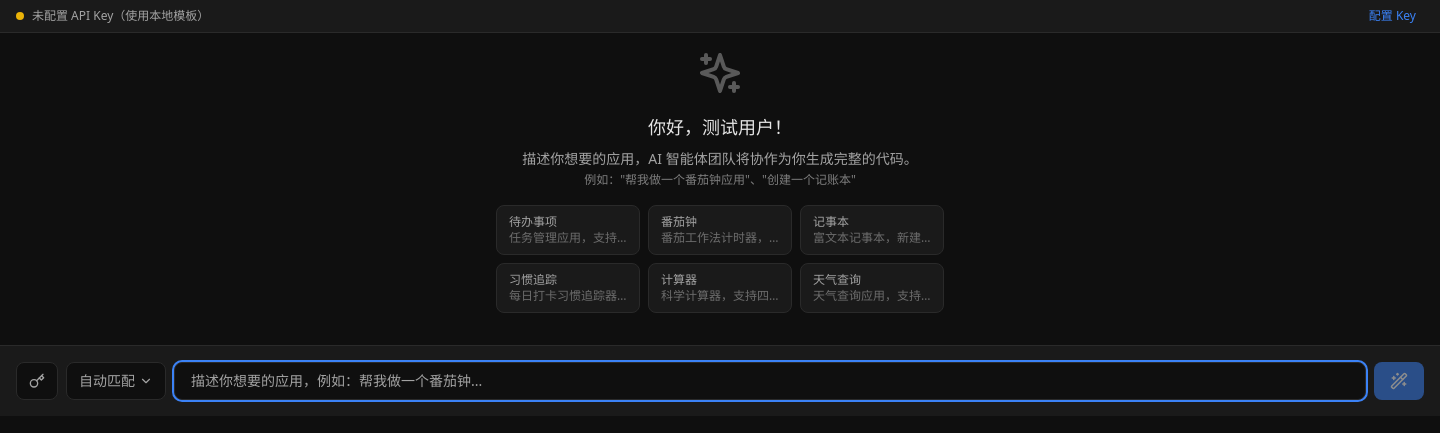
Test: ChatInterface › 输入有文字时生成按钮应该启用
Type "test" into the field with placeholder "描述你想要的应用，例如：帮我做一个番茄钟..." at (770, 381), box [174,362,1366,400]
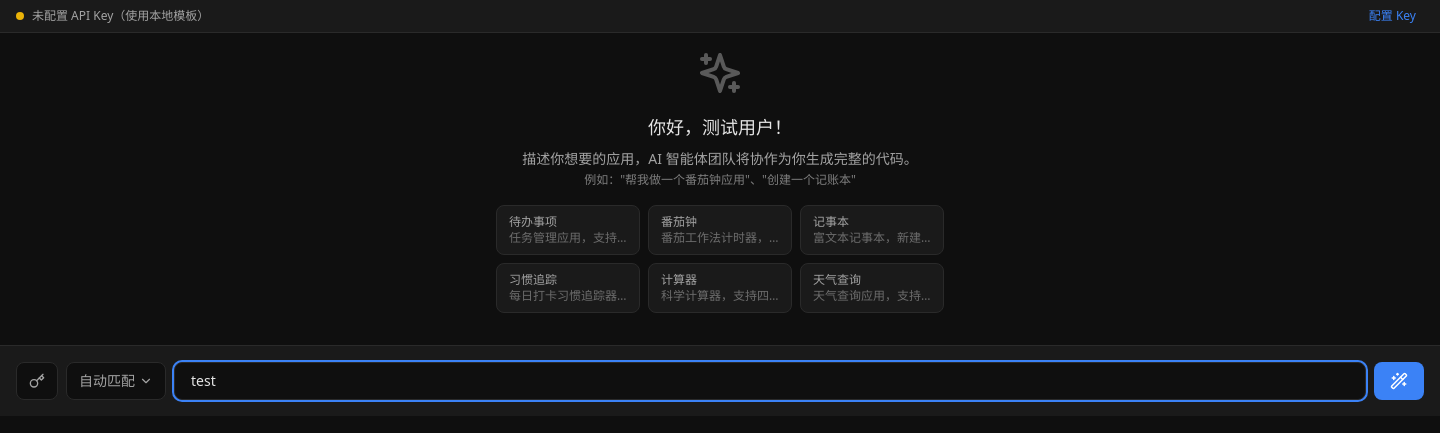
expect the button named "生成应用" is enabled: met, box [1374,362,1424,400]
